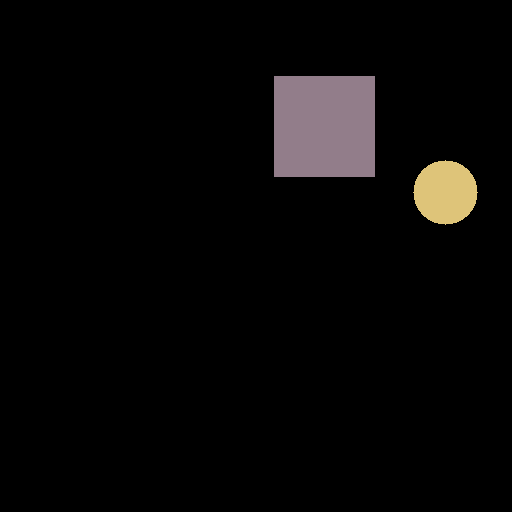circle: (413, 160, 477, 224)
square: (274, 76, 374, 176)
